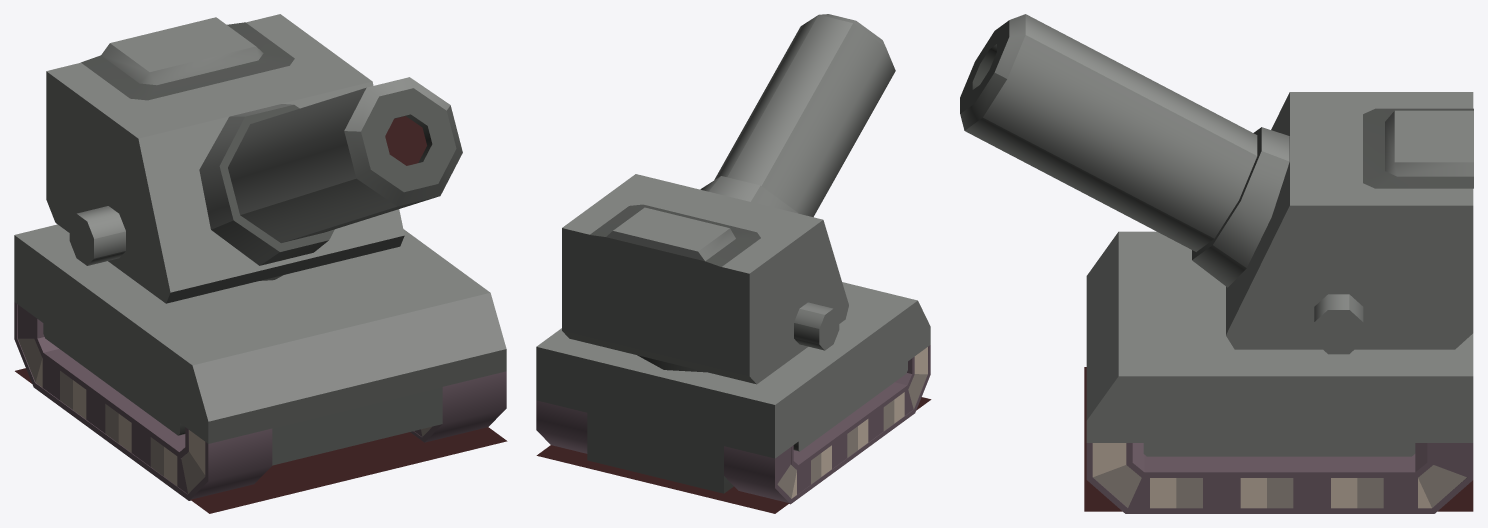
File: ArtillertyMesh.GreySky.glb
3 views of the same model, side by side, from view 1: azimuth 30°, elevation 25°; view 2: azimuth 150°, elevation 25°; view 3: azimuth 270°, elevation 25° (orthographic). The views are drawn at different scales.
Parts seen in each view (by area): view 1: ArtillertyMesh.GreySky; view 2: ArtillertyMesh.GreySky; view 3: ArtillertyMesh.GreySky.
Boxes of the visible parts, left/top/right/bottom form: ArtillertyMesh.GreySky: left=14, top=14, right=507, bottom=513; ArtillertyMesh.GreySky: left=536, top=14, right=931, bottom=513; ArtillertyMesh.GreySky: left=960, top=14, right=1473, bottom=513.
Bounding box in the file's own units: 1.4 × 1.88 × 2.1.
Materials: 1 (1 with a texture image).
